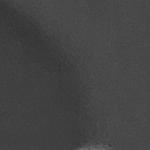colony: (70, 136, 120, 150)
